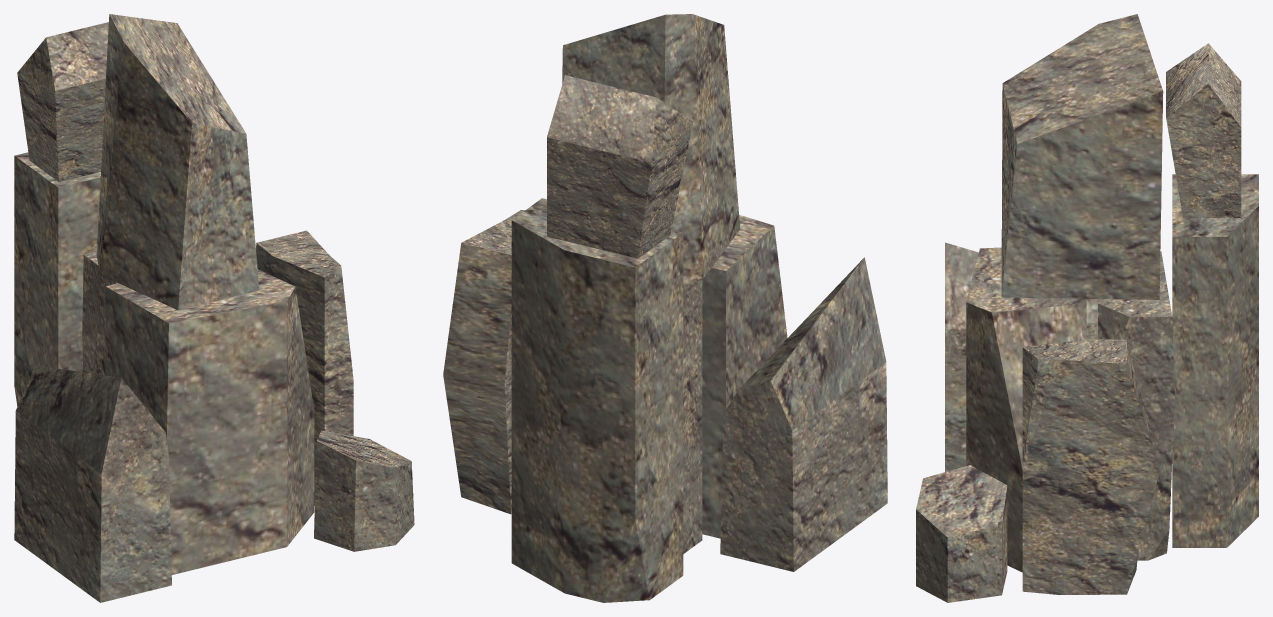
Rendered from rock_05.fbx.
The picture shows the model from 3 angles, left to right: view 1: azimuth 30°, elevation 25°; view 2: azimuth 150°, elevation 25°; view 3: azimuth 270°, elevation 25°; orthographic projection. The views are drawn at different scales.
Parts seen in each view (by area): view 1: pPlane3, pPlane7, pPlane6, pPlane9, pPlane10, pPlane5, pPlane4, pPlane8; view 2: pPlane9, pPlane6, pPlane10, pPlane7, pPlane5, pPlane3, pPlane8; view 3: pPlane7, pPlane5, pPlane9, pPlane3, pPlane4, pPlane10, pPlane8, pPlane6.
Boxes of the visible parts, x1=… form: pPlane3: x1=105, y1=269, x2=314, y2=574; pPlane7: x1=96, y1=14, x2=259, y2=310; pPlane6: x1=14, y1=365, x2=171, y2=602; pPlane9: x1=14, y1=152, x2=100, y2=406; pPlane10: x1=17, y1=22, x2=108, y2=181; pPlane5: x1=256, y1=230, x2=353, y2=505; pPlane4: x1=314, y1=430, x2=414, y2=551; pPlane8: x1=82, y1=251, x2=117, y2=375; pPlane9: x1=511, y1=198, x2=683, y2=602; pPlane6: x1=720, y1=257, x2=887, y2=571; pPlane10: x1=547, y1=75, x2=693, y2=258; pPlane7: x1=562, y1=14, x2=740, y2=285; pPlane5: x1=443, y1=210, x2=525, y2=514; pPlane3: x1=702, y1=214, x2=787, y2=538; pPlane8: x1=511, y1=280, x2=702, y2=553; pPlane7: x1=1001, y1=14, x2=1163, y2=299; pPlane5: x1=1022, y1=339, x2=1159, y2=594; pPlane9: x1=1172, y1=174, x2=1258, y2=547; pPlane3: x1=966, y1=247, x2=1086, y2=572; pPlane4: x1=916, y1=465, x2=1007, y2=602; pPlane10: x1=1166, y1=43, x2=1241, y2=217; pPlane8: x1=1098, y1=251, x2=1174, y2=560; pPlane6: x1=945, y1=242, x2=1097, y2=471.
Bounding box in the file's own units: 11.43 × 17.03 × 10.86.
1 material, 1 textured.
